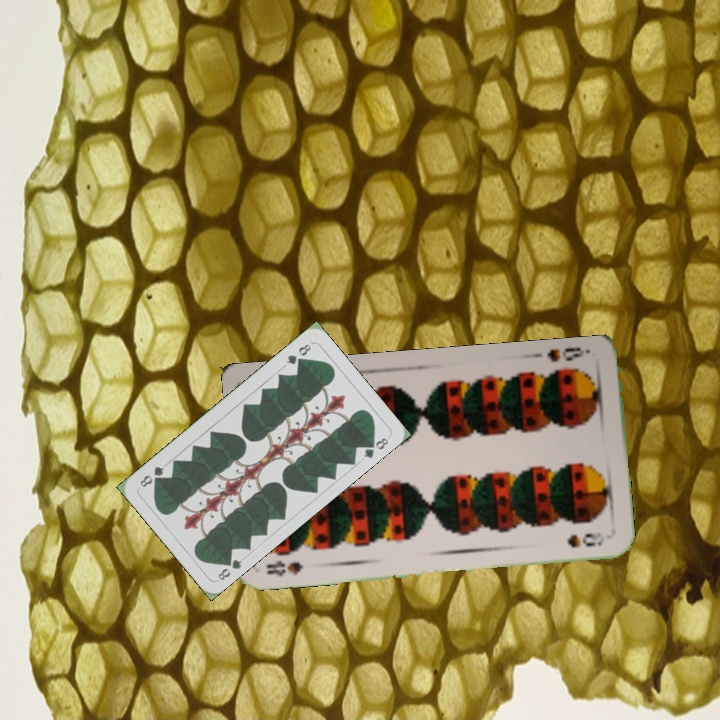G8: (214, 553, 245, 583), (282, 340, 313, 367)
S8: (542, 343, 593, 365), (262, 556, 305, 579)
